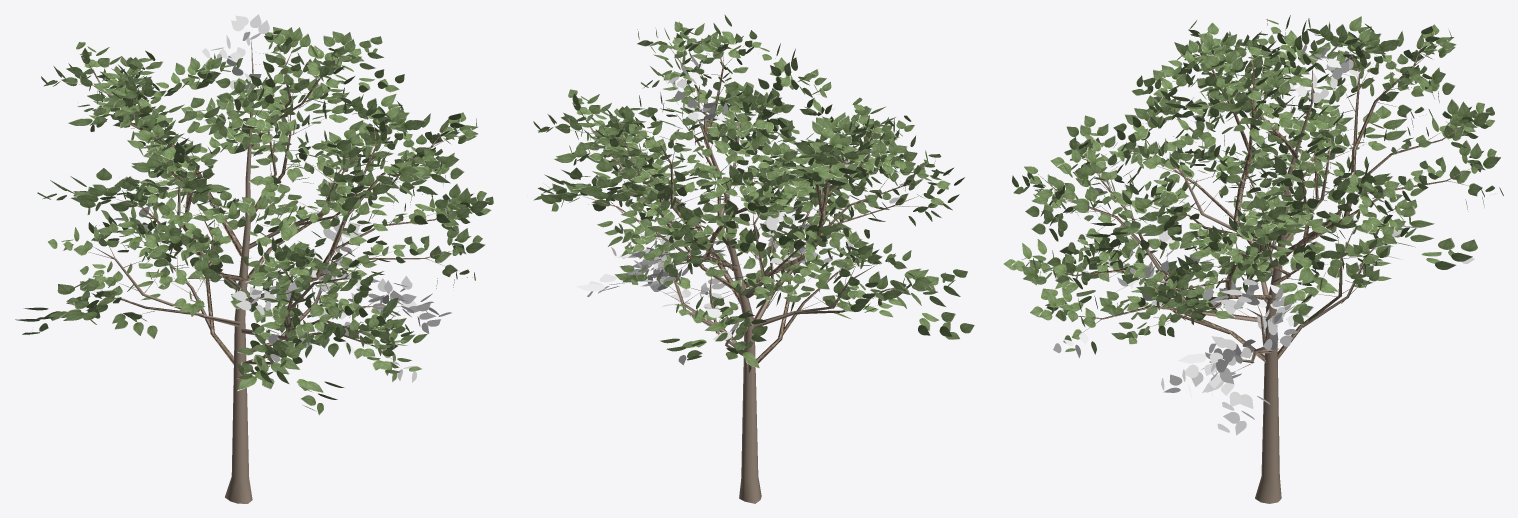
File: tree.glb
3 renders of one model, left to right at view 1: azimuth 30°, elevation 25°; view 2: azimuth 150°, elevation 25°; view 3: azimuth 270°, elevation 25°, orthographic. The views are drawn at different scales.
Visible parts, largest first — view 1: leaf02_243; view 2: leaf02_243; view 3: leaf02_243.
Part boxes in pixels (x1,y1,x2,y2): leaf02_243: (15, 14, 493, 503); leaf02_243: (533, 14, 974, 503); leaf02_243: (1004, 15, 1503, 503).
Size of the model in its own units: 0.00677 by 0.0068 by 0.00629.
2 materials, 2 textured.
